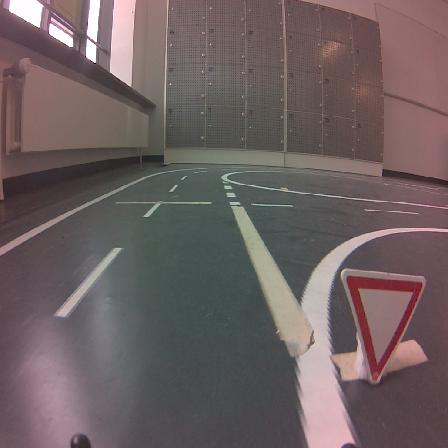GIVE_WAY: (341, 269, 425, 383)
